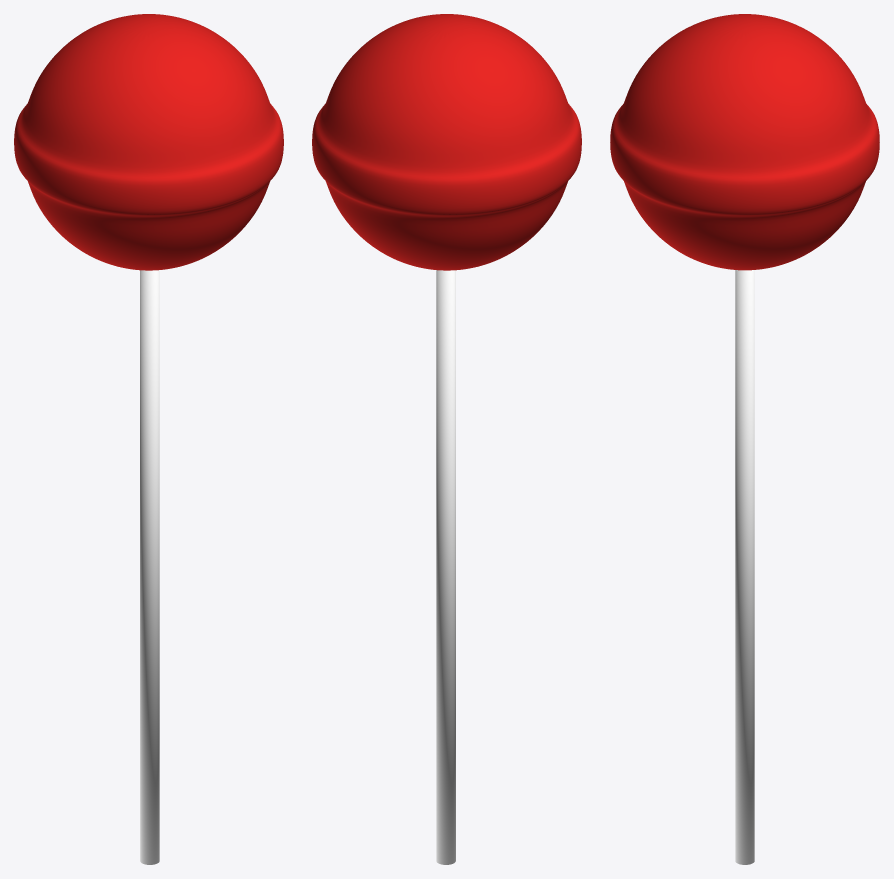
Rendered from giant_lollipop_red_v3.fbx.
The picture shows the model from 3 angles, left to right: view 1: azimuth 30°, elevation 25°; view 2: azimuth 150°, elevation 25°; view 3: azimuth 270°, elevation 25°; orthographic projection.
Parts seen in each view (by area): view 1: lollipop, cabo; view 2: lollipop, cabo; view 3: lollipop, cabo.
Part boxes in pixels (x1,y1,x2,y2): lollipop: (14,14,283,270); cabo: (140,270,159,864); lollipop: (312,14,581,270); cabo: (436,270,455,864); lollipop: (610,14,879,270); cabo: (735,270,754,864).
Size of the model in its own units: 401 by 1371 by 401.
